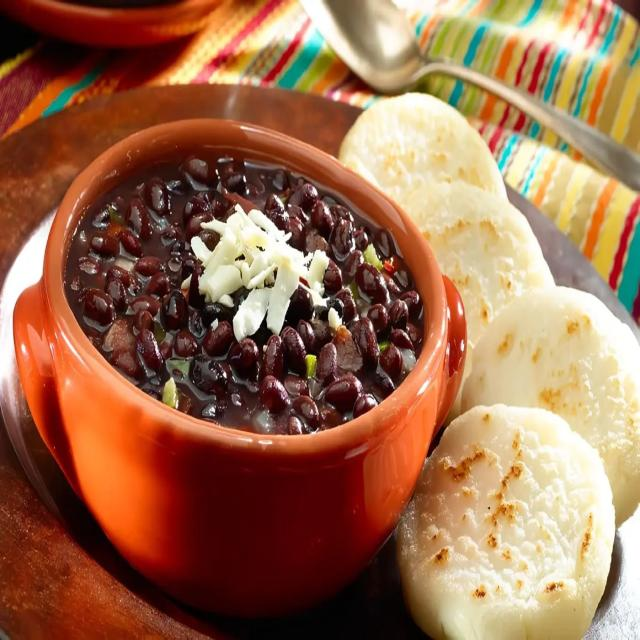arepa: (393, 393, 623, 638)
frijoles: (50, 97, 430, 496)
